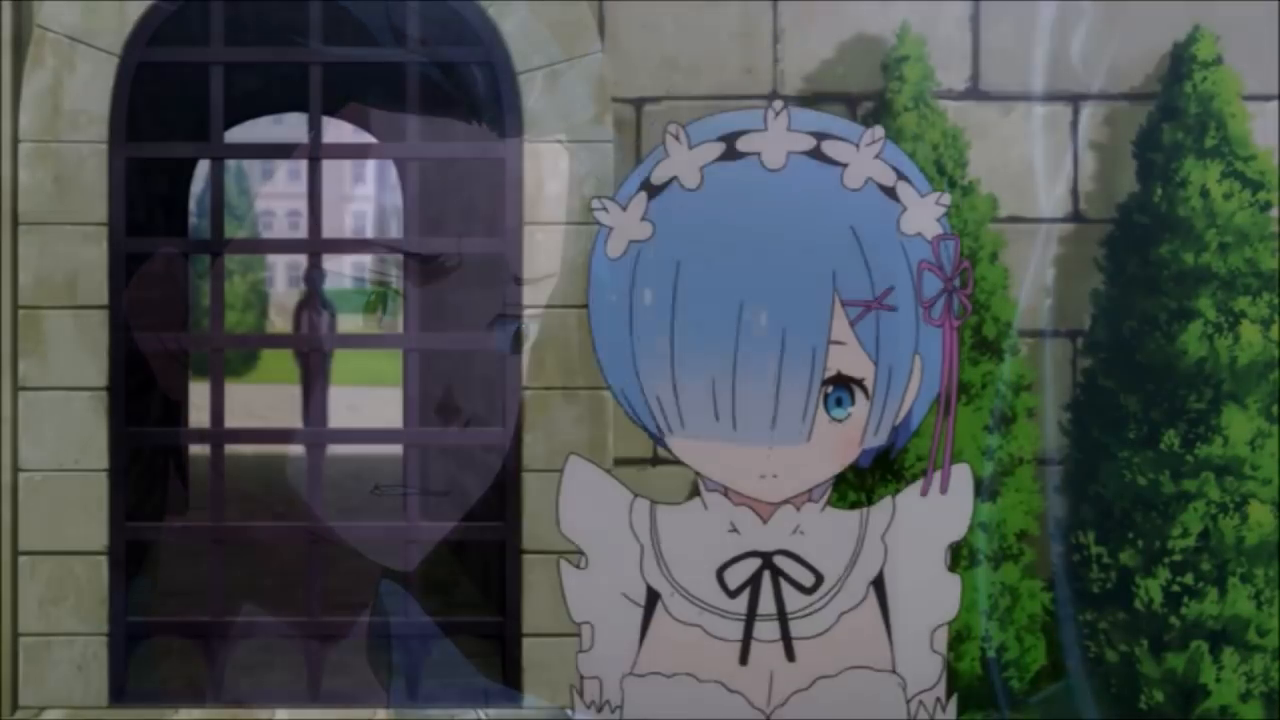REM: (573, 100, 973, 514)
